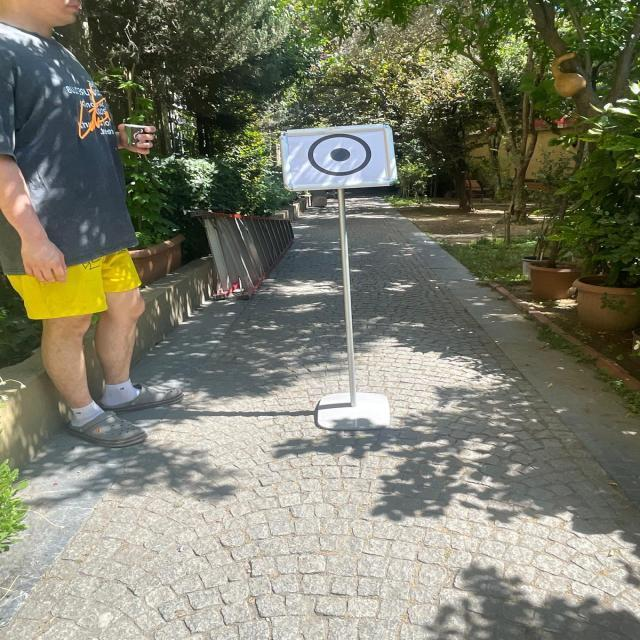Target: (257, 112, 423, 200)
inner: (323, 142, 361, 167)
